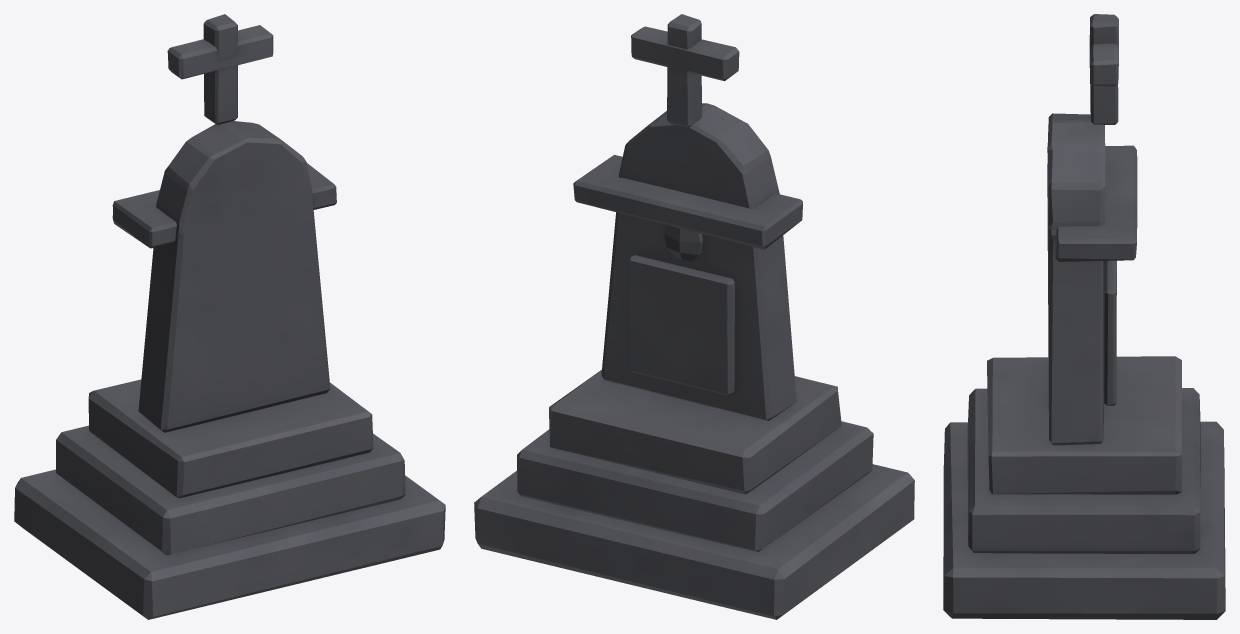
The model's file is grave_02_godot.glb.
3 views of the same model, side by side, from view 1: azimuth 30°, elevation 25°; view 2: azimuth 150°, elevation 25°; view 3: azimuth 270°, elevation 25° (orthographic). The views are drawn at different scales.
Visible parts, largest first — view 1: grave_02; view 2: grave_02; view 3: grave_02.
Part boxes in pixels (x1,y1,x2,y2): grave_02: (14, 14, 445, 619); grave_02: (474, 14, 914, 619); grave_02: (943, 14, 1225, 619).
Size of what is drawn, in the model's own units: 0.901 by 1.46 by 0.7037.
Materials: 1 (1 with a texture image).
